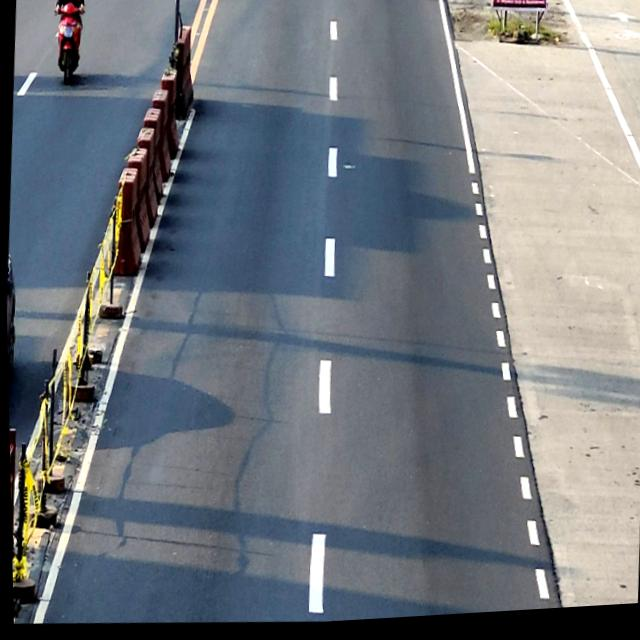Motorcycle: (52, 1, 86, 87)
